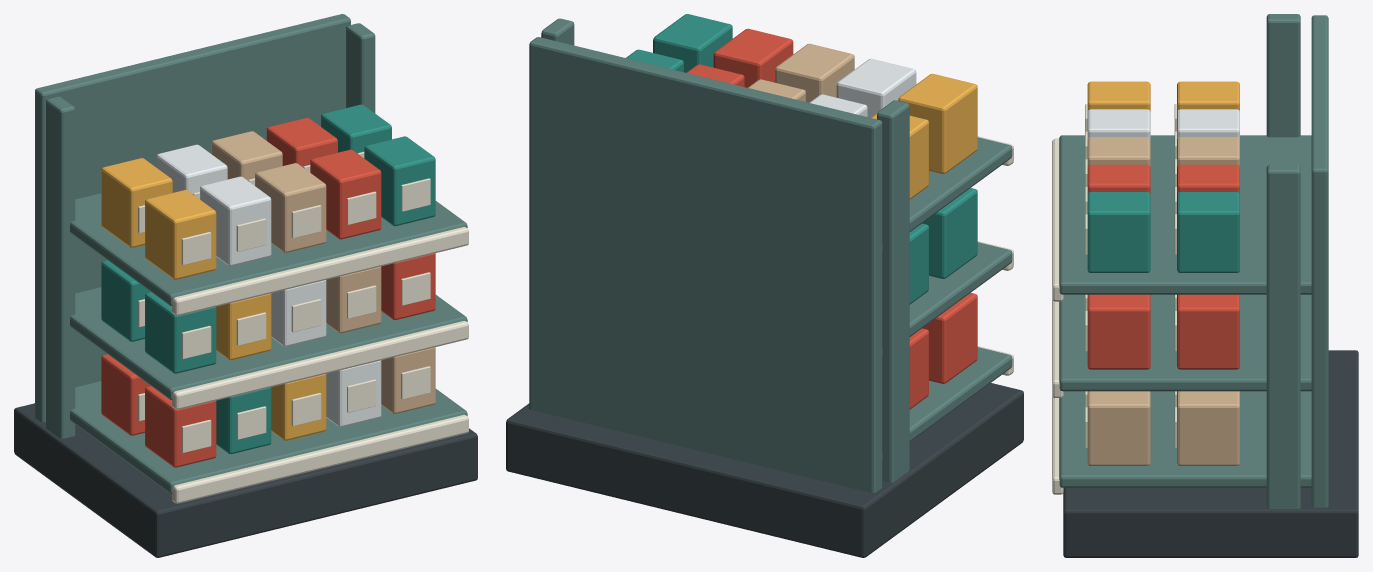
The model's file is boxbox-market-gondola.glb.
3 renders of one model, left to right at view 1: azimuth 30°, elevation 25°; view 2: azimuth 150°, elevation 25°; view 3: azimuth 270°, elevation 25°, orthographic. The views are drawn at different scales.
Parts seen in each view (by area): view 1: ShelfEnamel, Label, Trim, Tomato, Teal, Amber, Milk, Paper; view 2: ShelfEnamel, Trim, Tomato, Teal, Amber, Paper, Milk; view 3: ShelfEnamel, Trim, Tomato, Paper, Teal, Label, Amber, Milk.
Boxes of the visible parts, bbox=[...] form: ShelfEnamel: bbox=[35, 14, 467, 493]; Label: bbox=[138, 151, 468, 503]; Trim: bbox=[14, 403, 477, 557]; Tomato: bbox=[101, 117, 435, 467]; Teal: bbox=[101, 104, 435, 454]; Amber: bbox=[101, 158, 326, 440]; Milk: bbox=[156, 144, 381, 427]; Paper: bbox=[211, 131, 435, 413]; ShelfEnamel: bbox=[529, 18, 1012, 492]; Trim: bbox=[506, 383, 1023, 557]; Tomato: bbox=[686, 28, 977, 409]; Teal: bbox=[626, 14, 977, 304]; Amber: bbox=[871, 73, 977, 199]; Paper: bbox=[748, 43, 854, 102]; Milk: bbox=[809, 58, 916, 117]; ShelfEnamel: bbox=[1059, 14, 1328, 508]; Trim: bbox=[1063, 350, 1358, 557]; Tomato: bbox=[1087, 164, 1239, 369]; Paper: bbox=[1087, 137, 1239, 465]; Teal: bbox=[1087, 192, 1239, 272]; Label: bbox=[1052, 104, 1176, 494]; Amber: bbox=[1087, 81, 1239, 111]; Milk: bbox=[1087, 109, 1239, 139].
Bounding box in the file's own units: 0.79 × 0.88 × 0.633.
